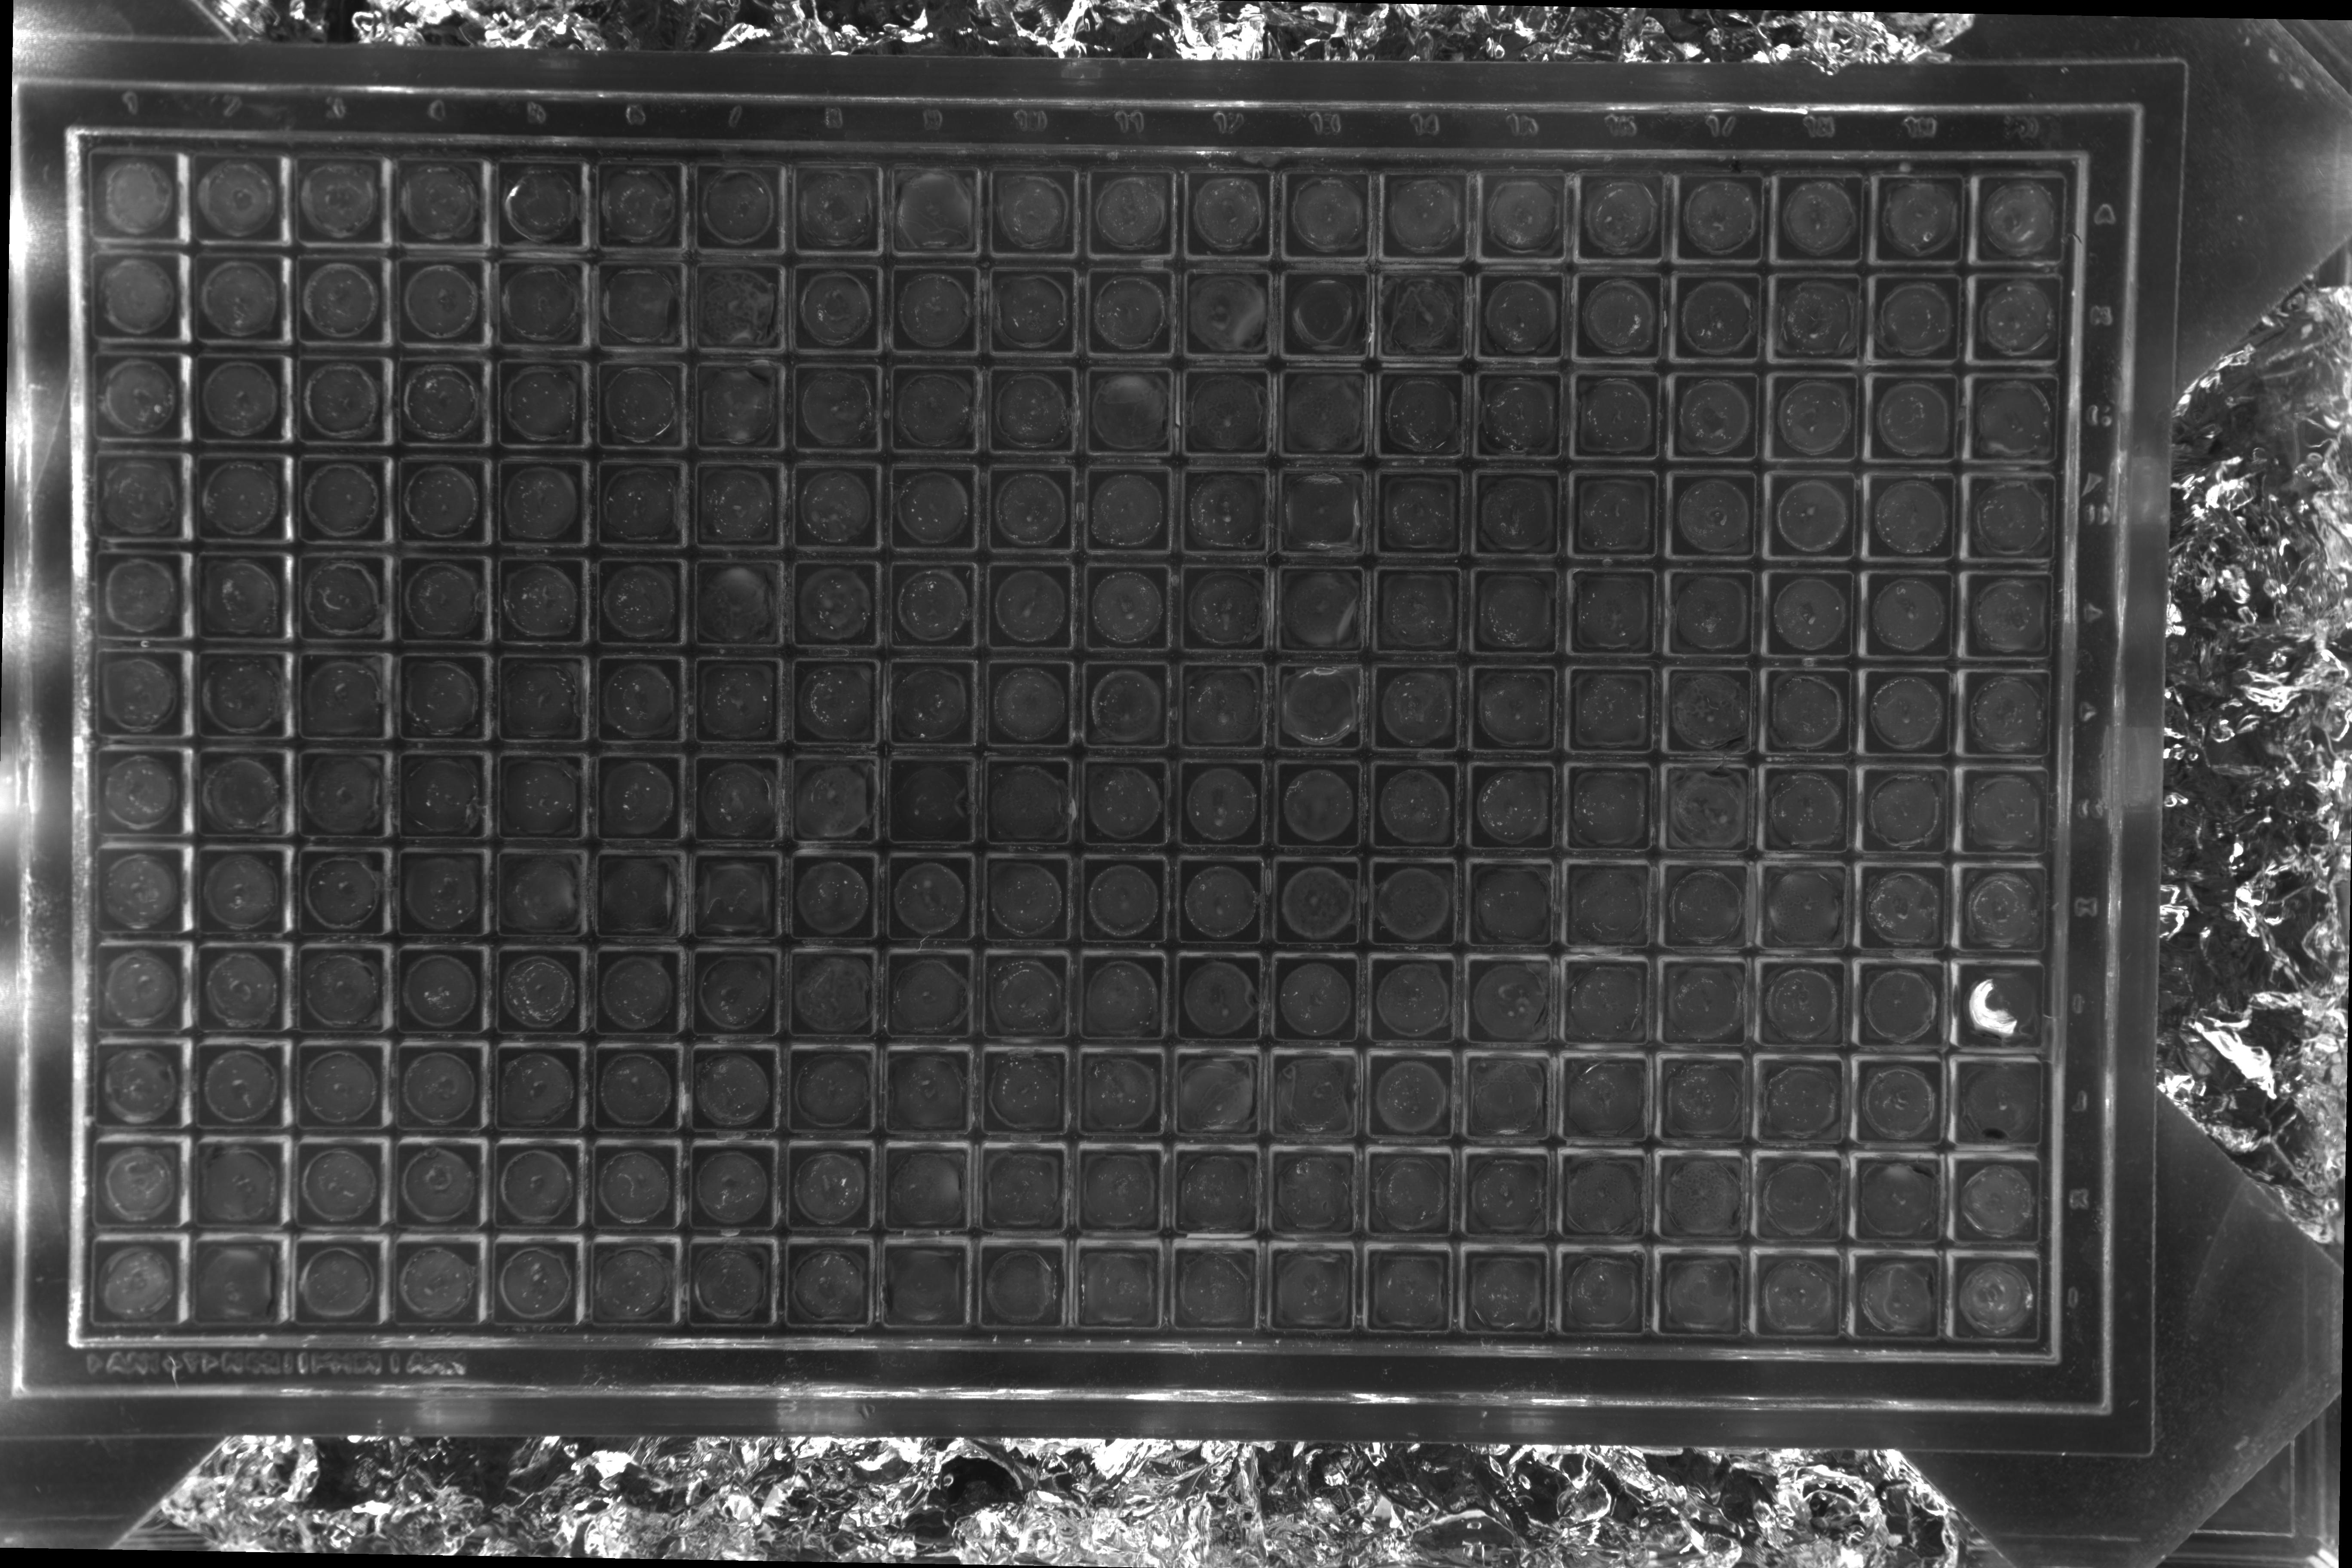WM_well: (493, 535, 583, 623), (497, 924, 586, 1011), (497, 1118, 586, 1206), (980, 338, 1069, 425), (392, 338, 479, 425), (588, 240, 675, 327), (595, 730, 682, 817), (595, 826, 682, 913), (686, 240, 773, 327), (782, 142, 870, 229), (786, 338, 873, 425), (983, 824, 1071, 912), (983, 920, 1071, 1008), (983, 1017, 1071, 1104), (1080, 630, 1167, 717), (1272, 920, 1360, 1008), (1274, 140, 1361, 227), (1370, 630, 1458, 717), (1759, 1115, 1846, 1202), (1860, 724, 1948, 812), (1956, 1017, 2044, 1104), (1960, 625, 2047, 712), (1963, 229, 2051, 317), (2058, 821, 2145, 908)
